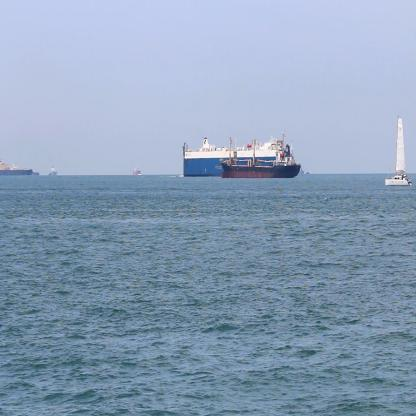Container Ship: (180, 133, 294, 179), (218, 128, 304, 181), (0, 160, 35, 178), (46, 163, 58, 179), (132, 164, 142, 178)
